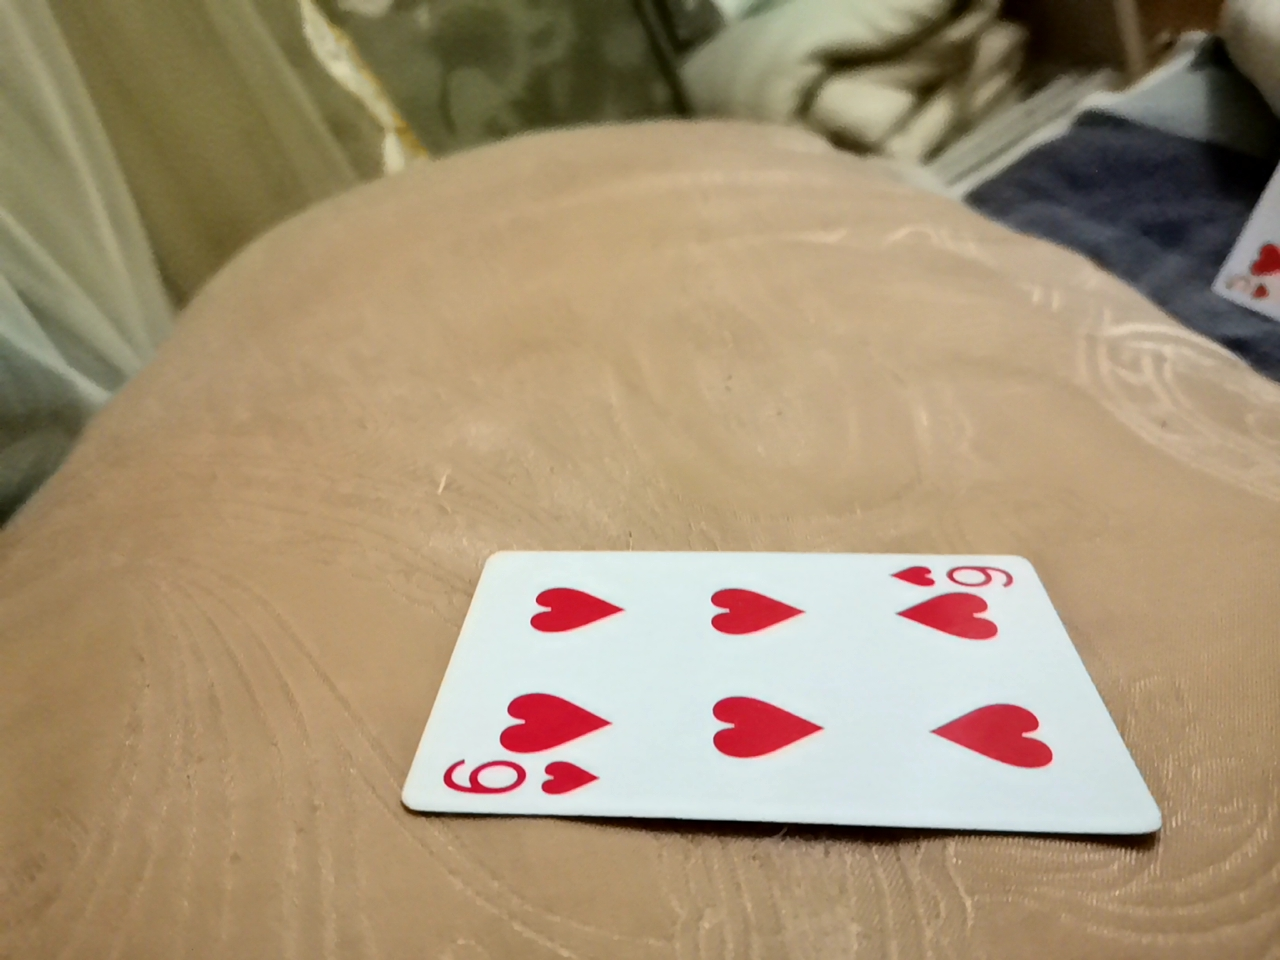hx 6: (416, 519, 1160, 809)
